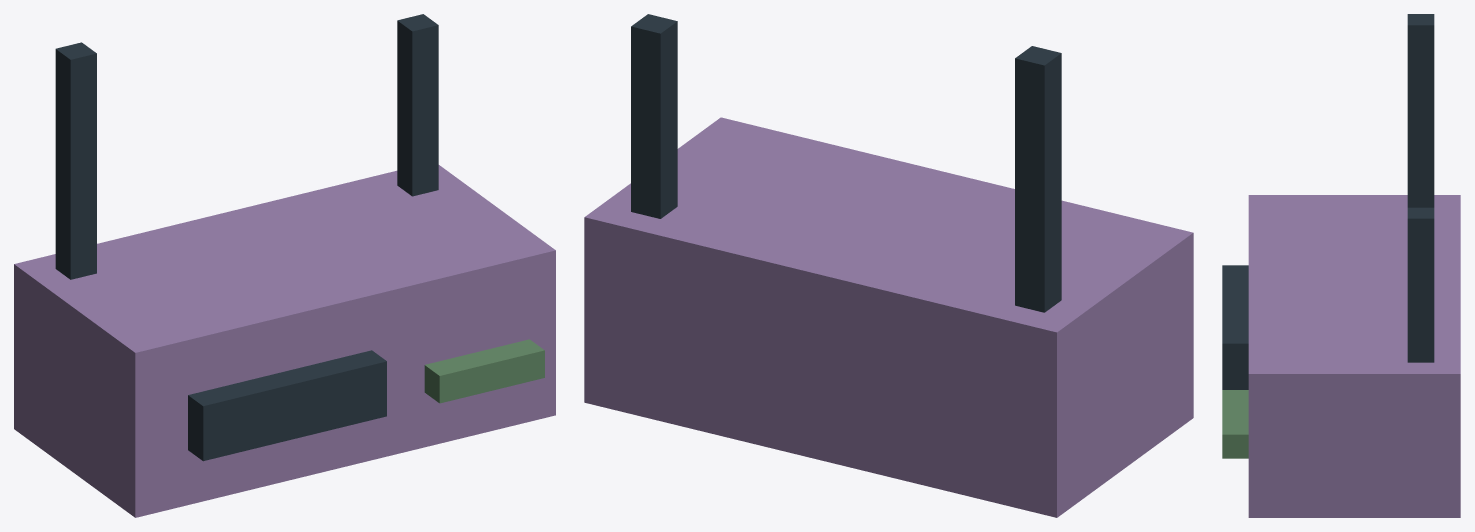
The model's file is crypto-05.glb.
3 renders of one model, left to right at view 1: azimuth 30°, elevation 25°; view 2: azimuth 150°, elevation 25°; view 3: azimuth 270°, elevation 25°, orthographic. The views are drawn at different scales.
Parts seen in each view (by area): view 1: Validation node; view 2: Validation node; view 3: Validation node.
Part boxes in pixels (x1,y1,x2,y2): Validation node: (14,14,555,517); Validation node: (584,14,1193,517); Validation node: (1222,14,1460,517).
Size of the model in its own units: 1.28 by 1.12 by 0.72.
